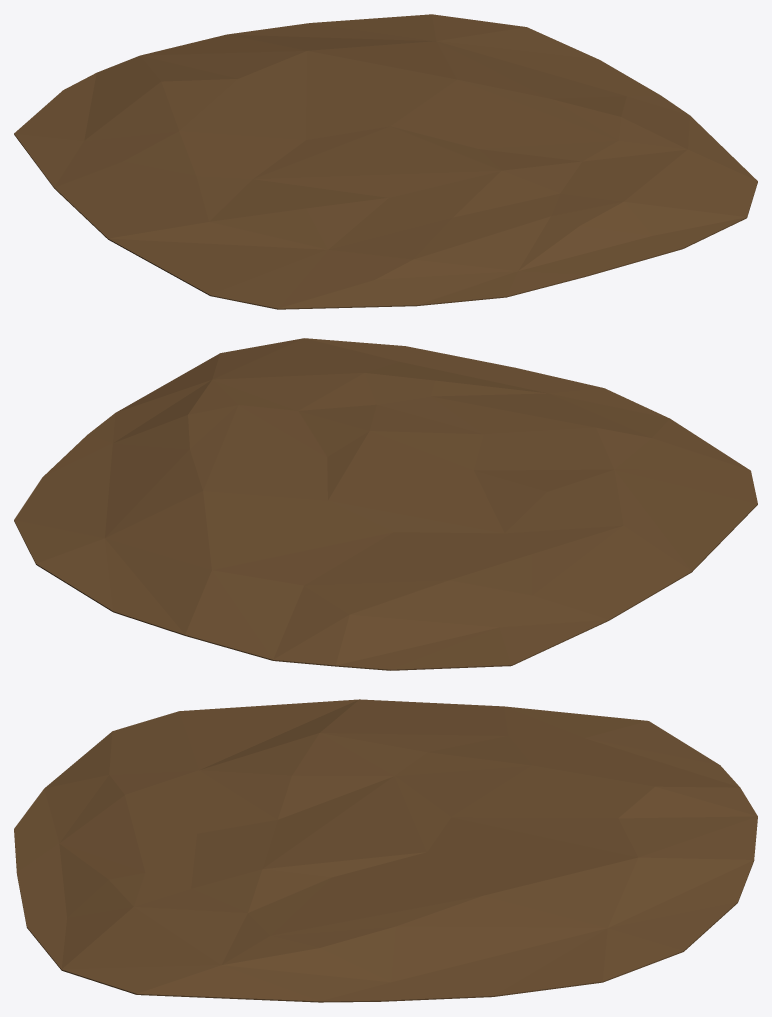
Rendered from Mesh_Landscape_Mud_08.FBX.
3 renders of one model, top to bottom at view 1: azimuth 30°, elevation 25°; view 2: azimuth 150°, elevation 25°; view 3: azimuth 270°, elevation 25°, orthographic. The views are drawn at different scales.
Parts seen in each view (by area): view 1: Mesh_Landscape_Mud_08; view 2: Mesh_Landscape_Mud_08; view 3: Mesh_Landscape_Mud_08.
Boxes of the visible parts, left/top/right/bottom form: Mesh_Landscape_Mud_08: left=14, top=14, right=757, bottom=309; Mesh_Landscape_Mud_08: left=14, top=338, right=757, bottom=670; Mesh_Landscape_Mud_08: left=14, top=699, right=757, bottom=1002.
Bounding box in the file's own units: 417 × 435 × 15.64.
